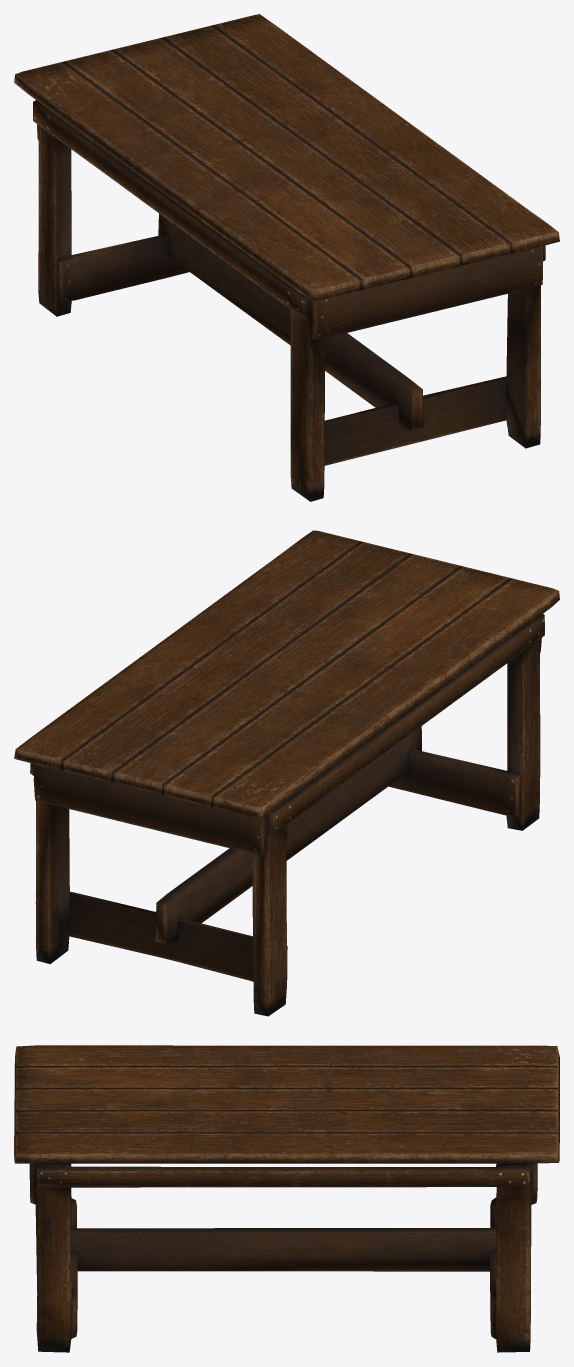
The model's file is wooden_table_4_opt.glb.
3 views of the same model, one above another, from view 1: azimuth 30°, elevation 25°; view 2: azimuth 150°, elevation 25°; view 3: azimuth 270°, elevation 25° (orthographic). The views are drawn at different scales.
Visible parts, largest first — view 1: defaultMaterial; view 2: defaultMaterial; view 3: defaultMaterial.
Part boxes in pixels (x1,y1,x2,y2): defaultMaterial: (14,14,559,501); defaultMaterial: (14,530,559,1016); defaultMaterial: (14,1045,559,1352).
Size of the model in its own units: 1.15 by 0.9801 by 2.41.
1 material, 1 textured.
